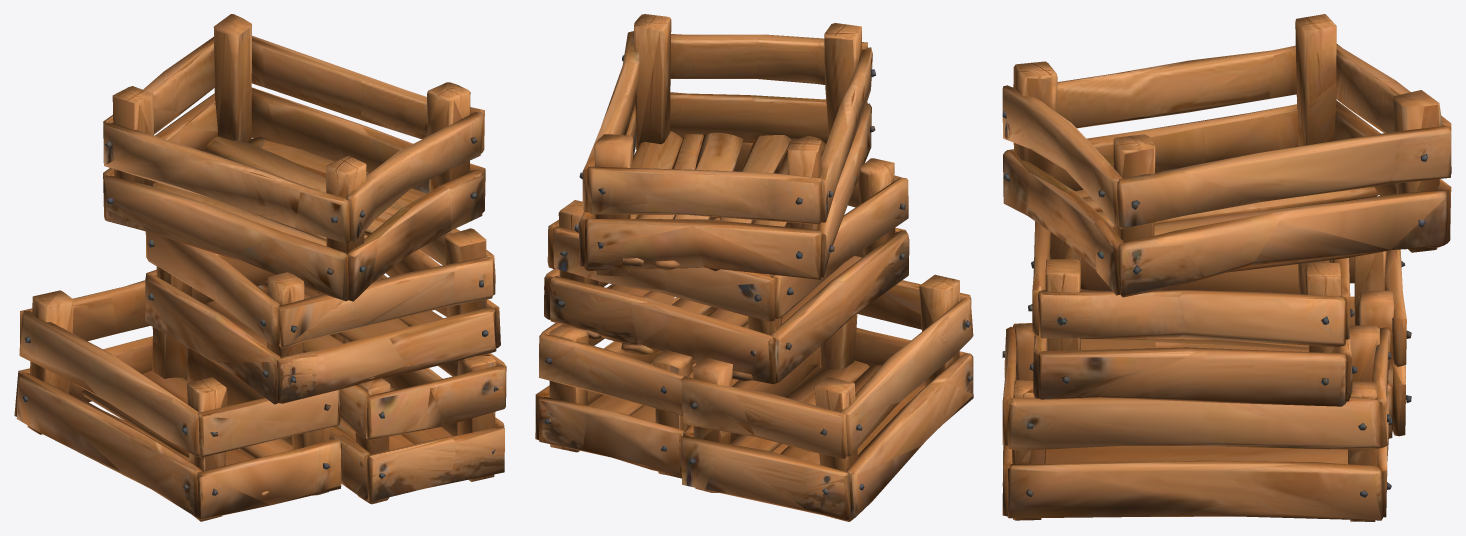
The model's file is crates.glb.
3 renders of one model, left to right at view 1: azimuth 30°, elevation 25°; view 2: azimuth 150°, elevation 25°; view 3: azimuth 270°, elevation 25°, orthographic. The views are drawn at different scales.
Visible parts, largest first — view 1: Mesh0; view 2: Mesh0; view 3: Mesh0.
Boxes of the visible parts, bbox=[...] form: Mesh0: bbox=[14, 14, 506, 521]; Mesh0: bbox=[535, 14, 973, 521]; Mesh0: bbox=[1002, 14, 1451, 521].
Bounding box in the file's own units: 0.9986 × 0.944 × 1.
1 material, 1 textured.
